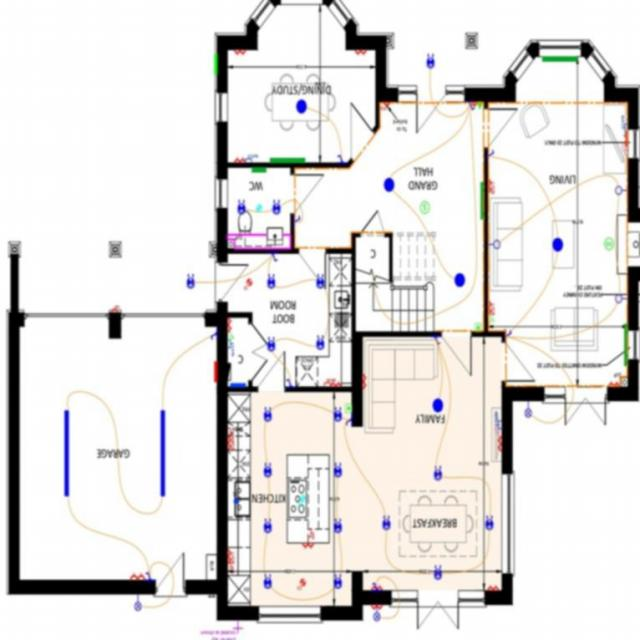BT Entry Point: (479, 104, 484, 110)
Cat 6 Data Socket: (622, 116, 629, 134), (246, 155, 260, 164), (229, 340, 236, 358)
Ceiling Mounted Continuous Extract FanWith Boost Mode Activated By Light Switch: (258, 206, 262, 212)
Ceiling Mounted Continuous Extract FanWith Local Boost Switch: (245, 279, 253, 292), (298, 580, 307, 591), (325, 378, 332, 388)
Co-Ax TV Socket: (622, 145, 628, 156)
Consumer Unit: (228, 363, 232, 382)
Double Socket: (132, 573, 146, 582), (497, 437, 503, 453), (235, 157, 246, 165), (609, 381, 620, 388), (371, 586, 383, 592), (356, 51, 368, 57), (303, 544, 315, 550), (228, 319, 233, 333), (235, 51, 246, 57), (488, 586, 499, 592), (624, 134, 629, 147), (364, 375, 368, 390), (371, 606, 383, 611)
Electric Meter Box: (215, 362, 218, 383)
External Wall Light: (135, 596, 142, 612), (526, 402, 532, 418), (374, 610, 381, 622)
Fused spur: (382, 103, 390, 112)
Gas Meter Box: (216, 54, 218, 76)
Hob Switch: (309, 530, 316, 541)
Internal Wall Light: (489, 240, 501, 250), (616, 295, 628, 304), (616, 187, 627, 196)
Light Switch: (287, 379, 294, 388), (372, 582, 378, 592), (146, 572, 152, 582), (488, 150, 494, 159), (338, 155, 344, 164), (211, 332, 217, 341), (272, 255, 279, 262), (295, 216, 302, 223), (346, 419, 352, 427), (470, 103, 476, 111), (506, 331, 513, 337), (435, 338, 441, 345)
Low Energy Downlighter: (334, 574, 344, 590), (434, 466, 444, 482), (186, 274, 196, 290), (334, 519, 344, 534), (486, 516, 495, 532), (383, 516, 392, 532), (238, 200, 247, 216), (434, 566, 444, 580), (317, 336, 326, 351), (264, 519, 273, 534), (264, 575, 273, 590), (335, 463, 343, 479), (427, 54, 435, 70), (317, 274, 325, 290), (274, 200, 282, 216), (264, 463, 272, 479), (268, 338, 277, 352), (264, 408, 273, 422), (335, 408, 343, 423), (268, 275, 276, 290)
Low Energy Pendant Light: (384, 179, 396, 193), (553, 238, 565, 252), (433, 399, 444, 414), (297, 100, 308, 114), (456, 274, 466, 288)
Mains Wired Smoke Detector: (421, 202, 430, 215)
Outside Socket: (113, 306, 120, 314)
Outside Tap: (234, 622, 244, 634)
Programmable Room Thermostat: (476, 324, 483, 333), (346, 405, 352, 414)
Radiator: (543, 56, 579, 62), (271, 159, 306, 164), (482, 183, 486, 220), (625, 325, 628, 367), (252, 169, 268, 173)
Recirculating Extractor Fan: (298, 496, 307, 507)
Single Socket: (473, 104, 478, 110)
Telephone Socket: (229, 332, 235, 341), (489, 317, 495, 324)
Twin LED Strip Light: (162, 411, 166, 498), (66, 412, 70, 497)
USB Double Socket: (489, 180, 497, 196), (331, 379, 342, 388), (229, 438, 236, 452), (229, 550, 236, 564), (489, 302, 495, 316)
Underfloor Heating Manifold: (232, 384, 246, 388)
Water Entry Position: (234, 499, 240, 505)
